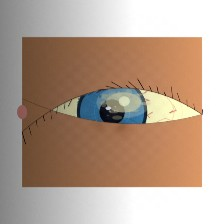corneal_ulcer: (95, 80, 152, 125)
